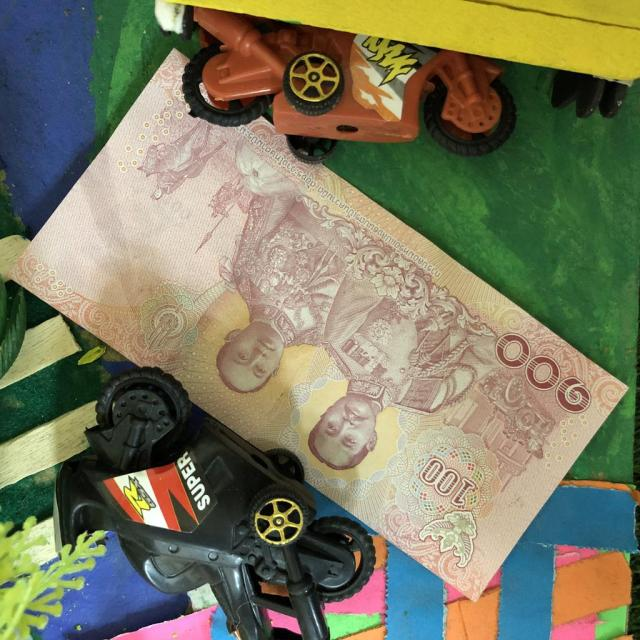THAI100: (10, 50, 628, 599)
